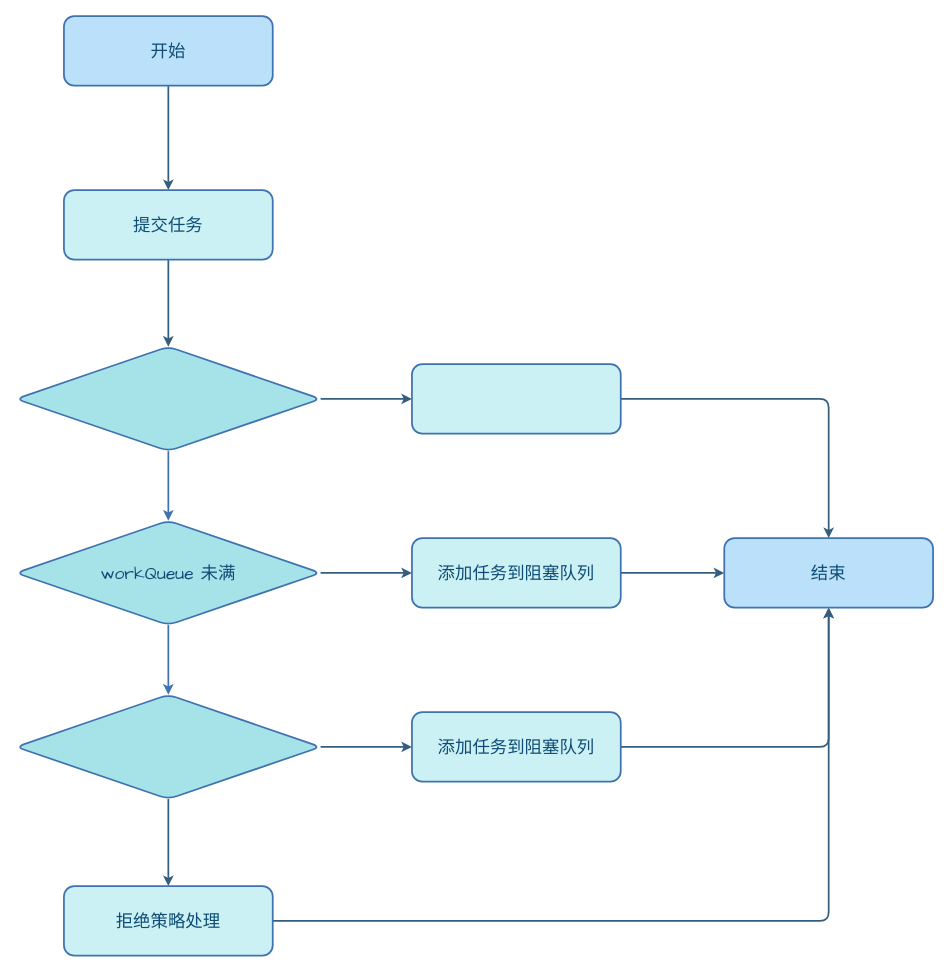
Image size: 948x971. Some labels were removed from this diagram. The box of each missing label's shape, as (x1, y1, x2, y2) in pixels:
创建线程并执行任务: (411, 363, 621, 434)
线程数 < corePoolSize: (15, 345, 321, 452)
线程数 < maximumPoolSize: (15, 693, 321, 800)
